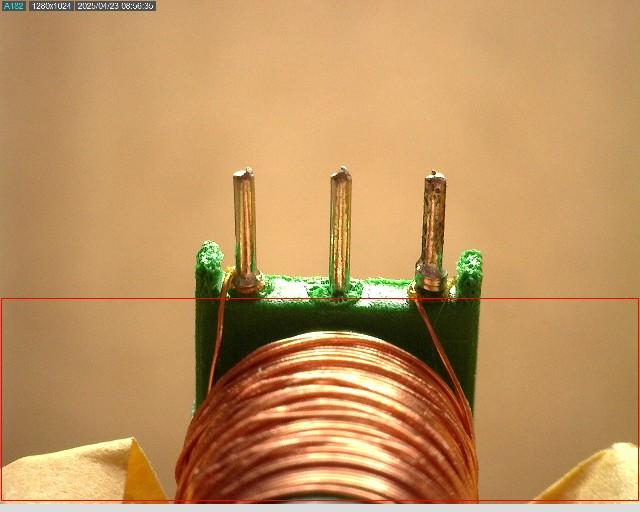obsolete: (411, 165, 453, 300)
